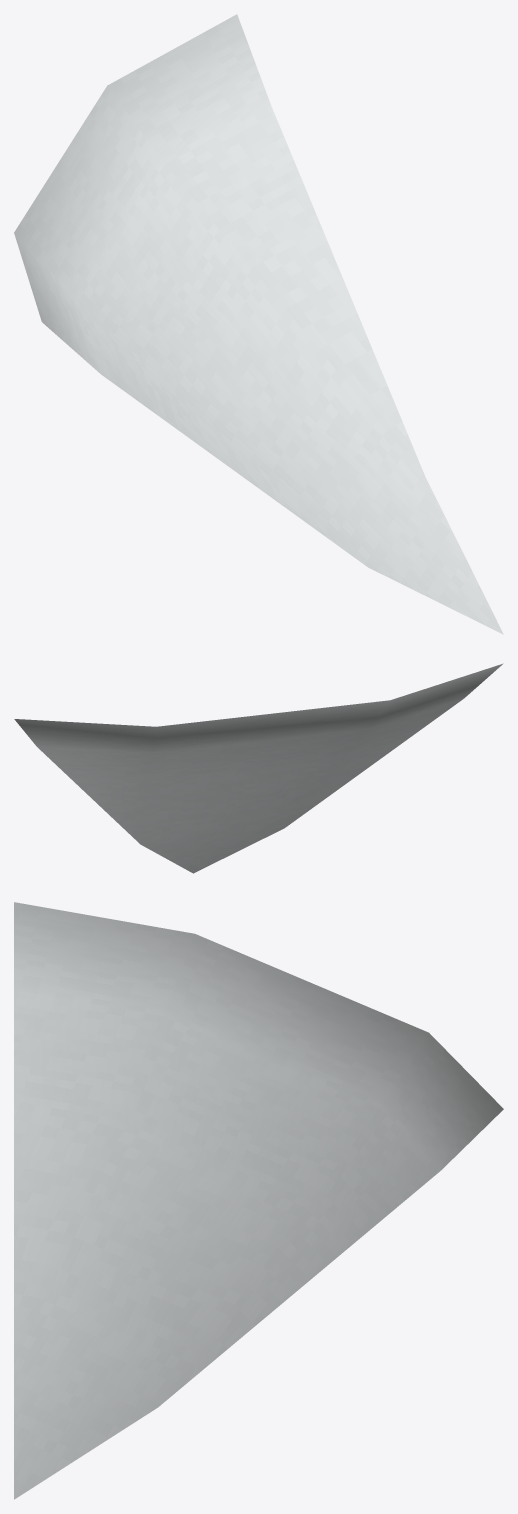
File: spheroid_small_0_0_0.obj
3 renders of one model, top to bottom at view 1: azimuth 30°, elevation 25°; view 2: azimuth 150°, elevation 25°; view 3: azimuth 270°, elevation 25°, orthographic. The views are drawn at different scales.
Parts seen in each view (by area): view 1: spheroid_small_0_0_0; view 2: spheroid_small_0_0_0; view 3: spheroid_small_0_0_0.
Boxes of the visible parts, x1,y1,x2,y2 form: spheroid_small_0_0_0: (14, 14, 503, 634); spheroid_small_0_0_0: (14, 663, 503, 873); spheroid_small_0_0_0: (14, 902, 503, 1499).
Bounding box in the file's own units: 2.53 × 2.23 × 2.53.
